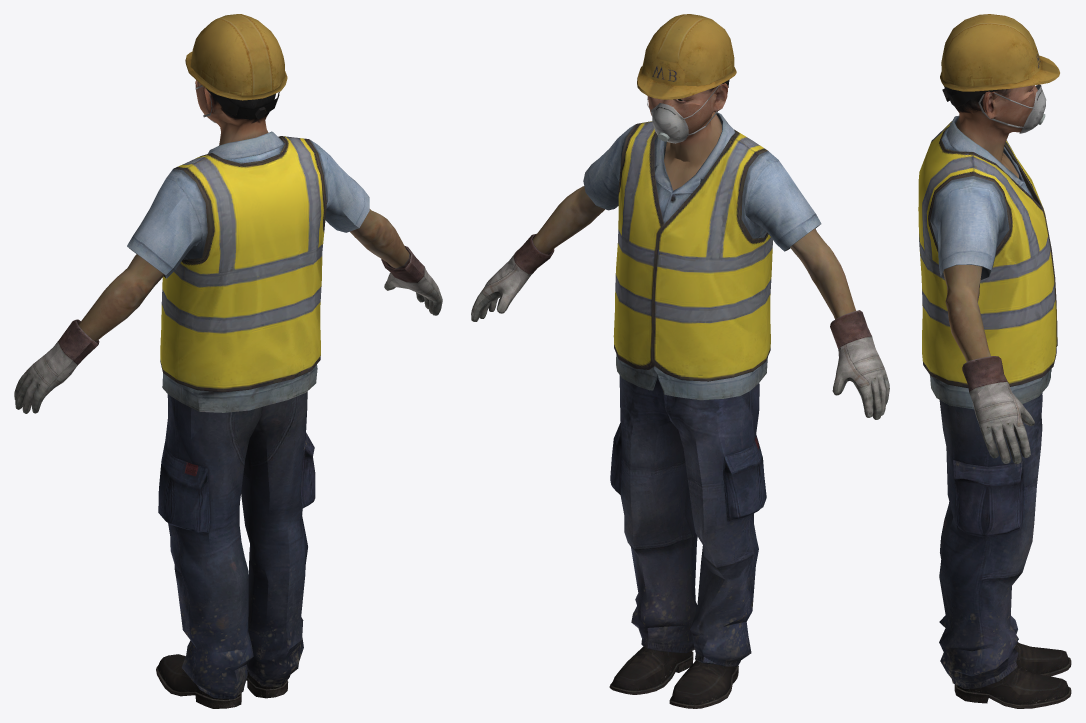
3 renders of one model, left to right at view 1: azimuth 30°, elevation 25°; view 2: azimuth 150°, elevation 25°; view 3: azimuth 270°, elevation 25°, orthographic. The views are drawn at different scales.
Parts seen in each view (by area): view 1: skfb_offset; view 2: skfb_offset; view 3: skfb_offset.
Boxes of the visible parts, x1,y1,x2,y2 form: skfb_offset: (14,14,442,708); skfb_offset: (471,14,889,708); skfb_offset: (918,14,1071,708).
Size of the model in its own units: 11571 by 17772 by 3703.
1 material, 1 textured.
